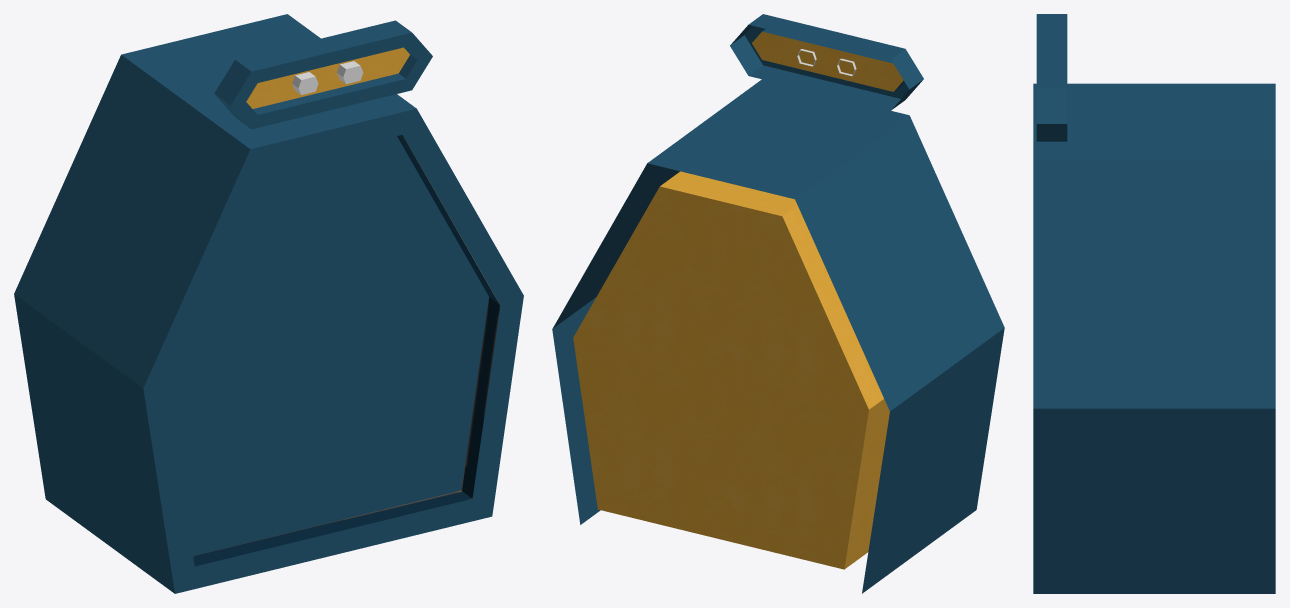
The model's file is Elevator.fbx.
The picture shows the model from 3 angles, left to right: view 1: azimuth 30°, elevation 25°; view 2: azimuth 150°, elevation 25°; view 3: azimuth 270°, elevation 25°; orthographic projection. The views are drawn at different scales.
Parts seen in each view (by area): view 1: Elevator, Elevator Door R, Elevator Door L, Elevator Light; view 2: Elevator, Elevator Light; view 3: Elevator, Elevator Light.
Boxes of the visible parts, x1,y1,x2,y2 form: Elevator: (14, 14, 523, 593); Elevator Door R: (322, 136, 488, 524); Elevator Door L: (167, 154, 322, 555); Elevator Light: (214, 20, 432, 129); Elevator: (552, 79, 1004, 593); Elevator Light: (730, 14, 923, 110); Elevator: (1033, 83, 1275, 593); Elevator Light: (1036, 14, 1067, 141).
Size of the model in its own units: 984 by 1240 by 579.
